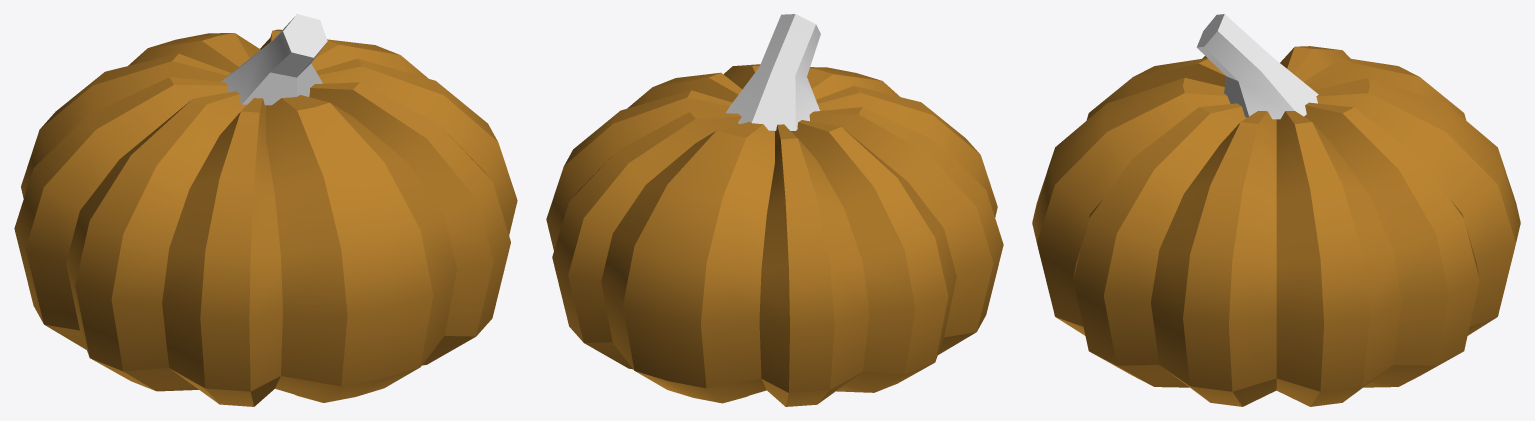
File: PumpkinMine.fbx
The picture shows the model from 3 angles, left to right: view 1: azimuth 30°, elevation 25°; view 2: azimuth 150°, elevation 25°; view 3: azimuth 270°, elevation 25°; orthographic projection. The views are drawn at different scales.
Parts seen in each view (by area): view 1: PumpkinMine.001; view 2: PumpkinMine.001; view 3: PumpkinMine.001.
Boxes of the visible parts, x1,y1,x2,y2 form: PumpkinMine.001: (14, 14, 517, 406); PumpkinMine.001: (546, 14, 1003, 406); PumpkinMine.001: (1032, 14, 1520, 406).
Size of the model in its own units: 35.1 by 28.14 by 35.79.
